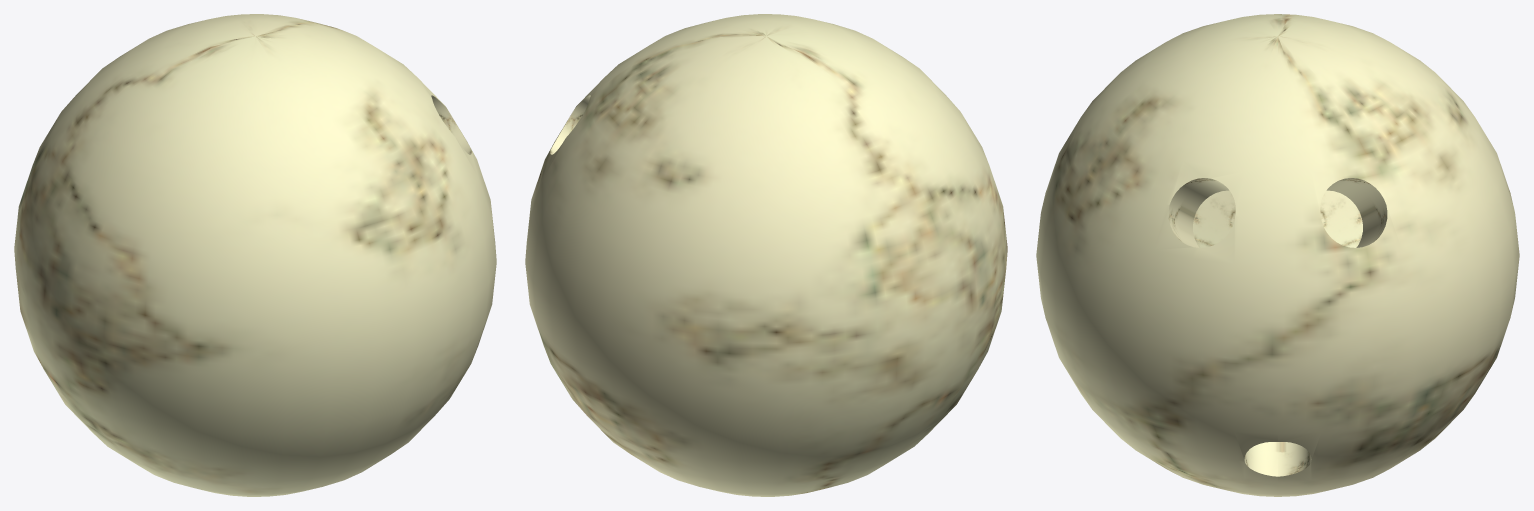
The model's file is bowling_ball.gltf.
The picture shows the model from 3 angles, left to right: view 1: azimuth 30°, elevation 25°; view 2: azimuth 150°, elevation 25°; view 3: azimuth 270°, elevation 25°; orthographic projection.
Visible parts, largest first — view 1: bowling_ball; view 2: bowling_ball; view 3: bowling_ball.
Boxes of the visible parts, x1,y1,x2,y2 form: bowling_ball: (14,14,496,496); bowling_ball: (525,14,1007,496); bowling_ball: (1036,14,1519,496).
Size of the model in its own units: 0.21 by 0.21 by 0.21.
Materials: 1 (1 with a texture image).
